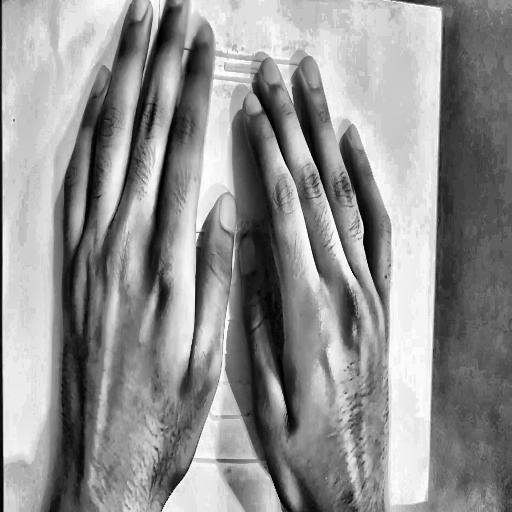bottom_right: (424, 494, 431, 505)
mobile: (143, 0, 316, 476)
top_right: (439, 3, 445, 13)
